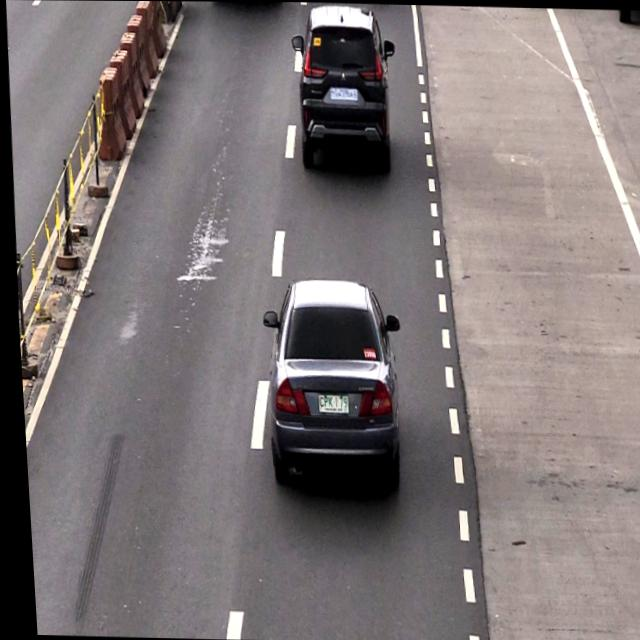Car: (258, 278, 399, 488), (292, 2, 391, 175)
License-Plate: (311, 391, 346, 420), (326, 81, 358, 105)
